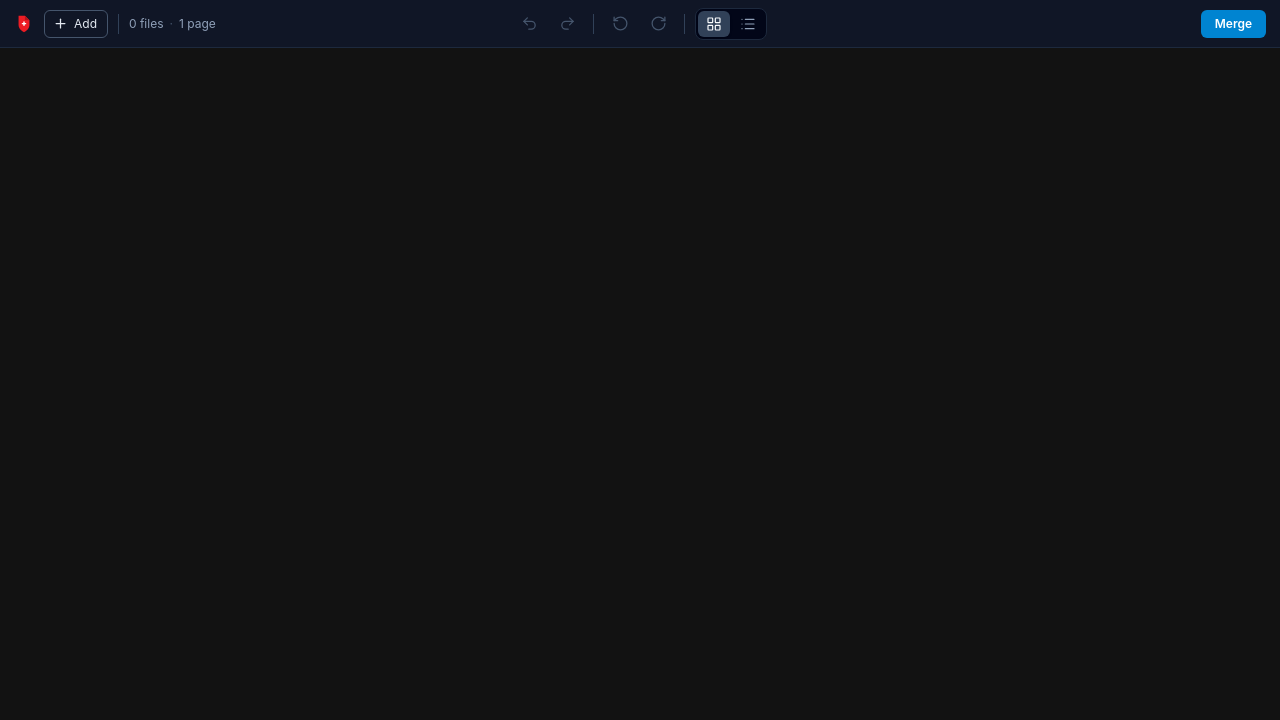
Test: Toolbar › shows a failure, re-enables Merge, and removes the progress listener
Click the button "Merge": click(1233, 24) [1201,10,1266,38]
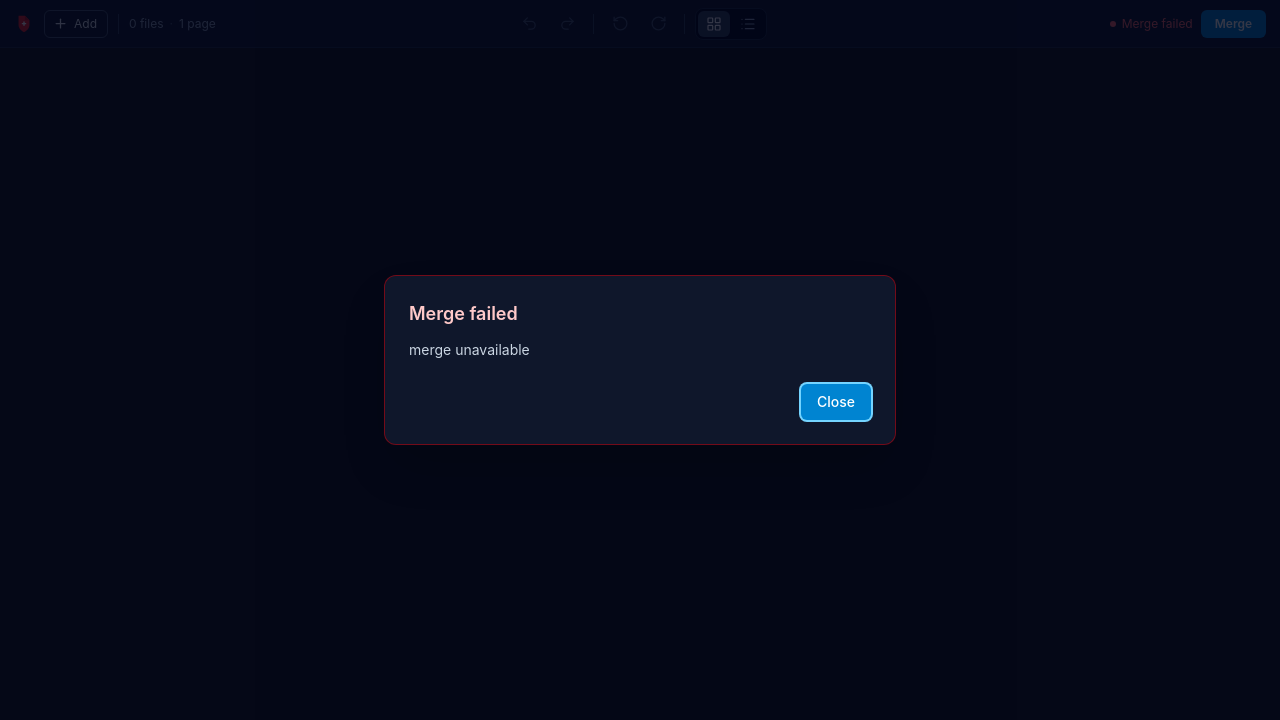
Check: the text "Merge failed" is shown, box [1110,16,1193,32]
